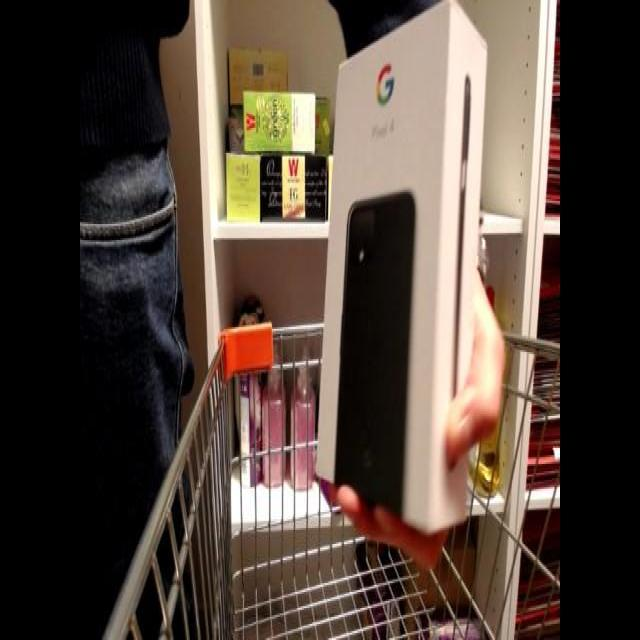Pixel 4: (294, 1, 503, 532)
